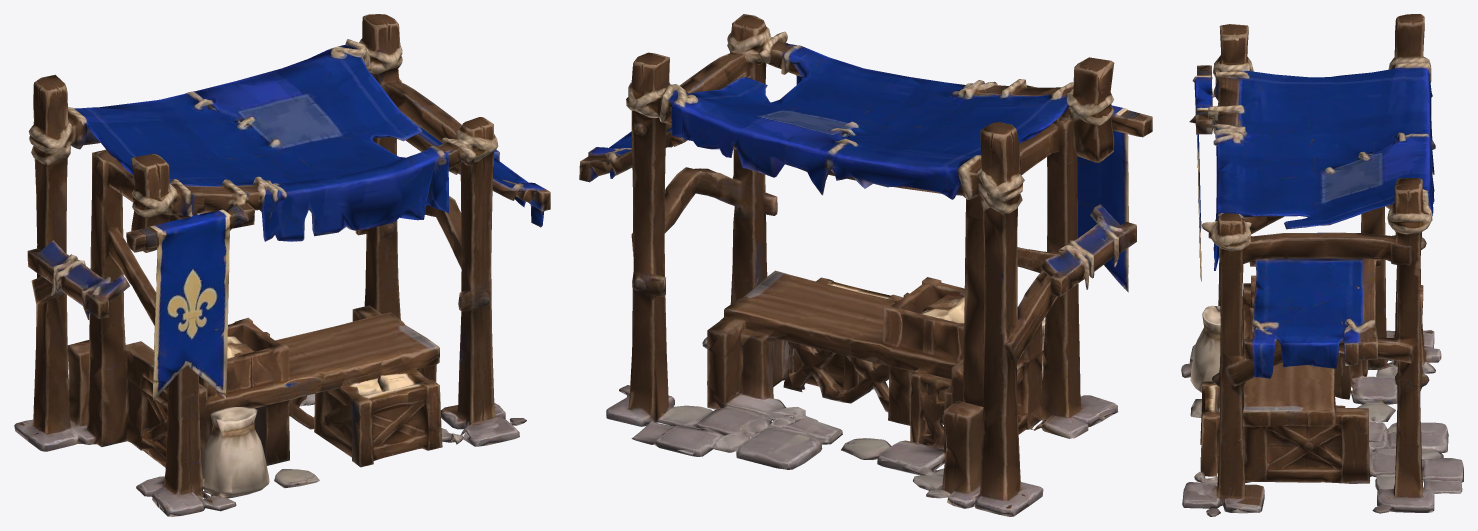
The model's file is market_1.glb.
The picture shows the model from 3 angles, left to right: view 1: azimuth 30°, elevation 25°; view 2: azimuth 150°, elevation 25°; view 3: azimuth 270°, elevation 25°; orthographic projection. The views are drawn at different scales.
Bounding box in the file's own units: 1.9 × 1.4 × 1.08.
1 material, 1 textured.
